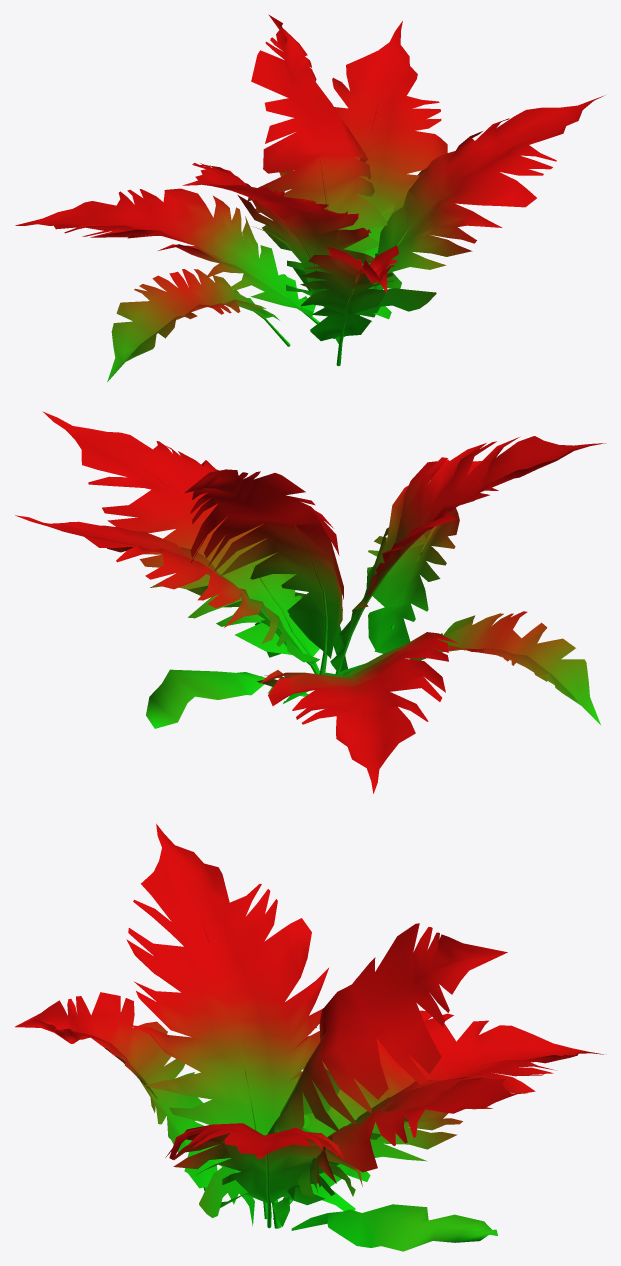
Rendered from Lady Fern_LOD1_Var6_wdvlditia.fbx.
3 renders of one model, top to bottom at view 1: azimuth 30°, elevation 25°; view 2: azimuth 150°, elevation 25°; view 3: azimuth 270°, elevation 25°, orthographic. The views are drawn at different scales.
Visible parts, largest first — view 1: _gue4_Var6_LOD1; view 2: _gue4_Var6_LOD1; view 3: _gue4_Var6_LOD1.
Boxes of the visible parts, <box> form: _gue4_Var6_LOD1: <box>15,14,604,381</box>; _gue4_Var6_LOD1: <box>15,411,605,793</box>; _gue4_Var6_LOD1: <box>15,823,603,1251</box>.
Size of the model in its own units: 81.39 by 39.32 by 69.91.
